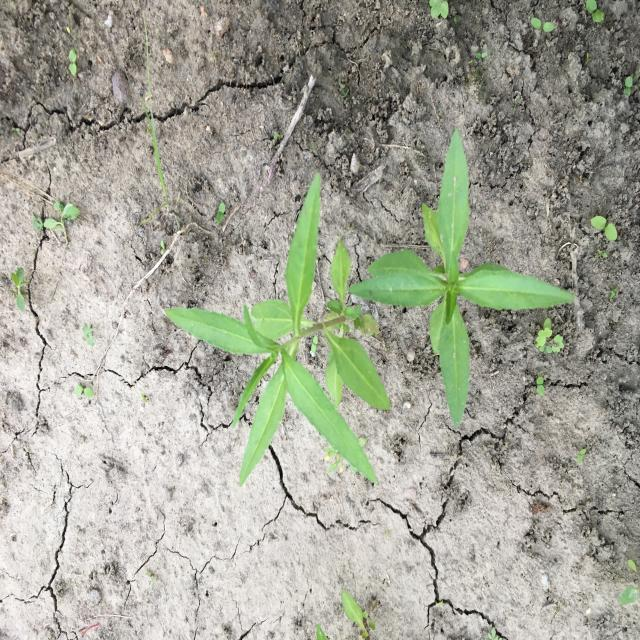Eclipta: (161, 171, 393, 490), (346, 129, 578, 431)
